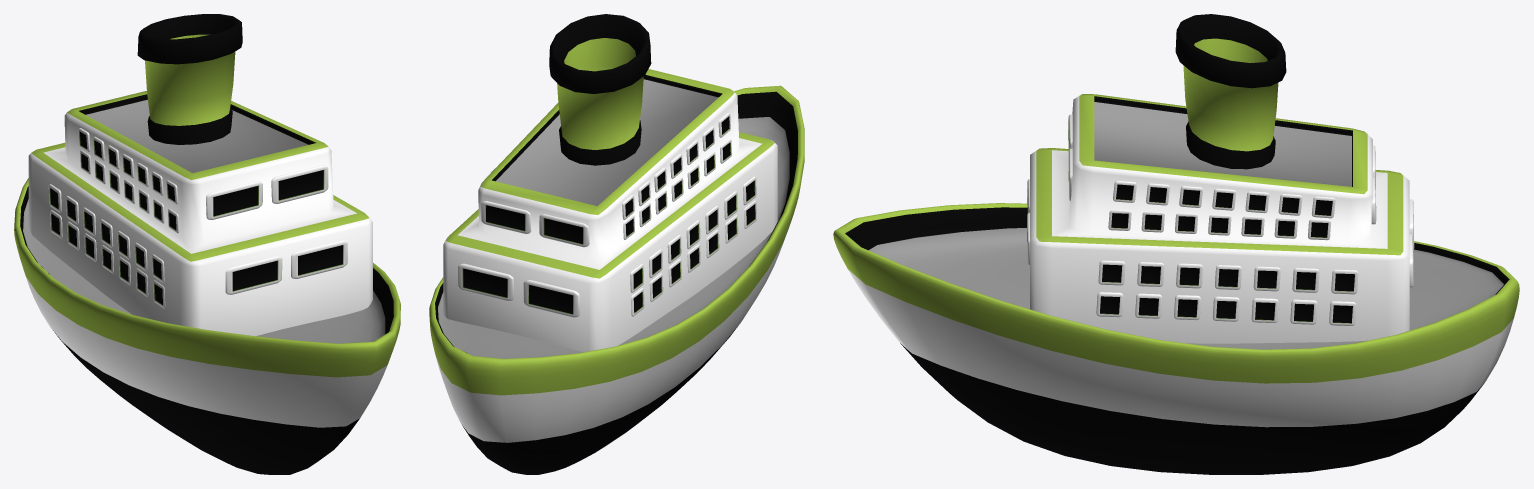
File: Navio.glb
The picture shows the model from 3 angles, left to right: view 1: azimuth 30°, elevation 25°; view 2: azimuth 150°, elevation 25°; view 3: azimuth 270°, elevation 25°; orthographic projection. The views are drawn at different scales.
Visible parts, largest first — view 1: Cube.001, Cube, Cylinder, janela1, janela1.001, janela1.002, janela1.011, janela1.010, janela1.009, janela1.008, janela1.003; view 2: Cube.001, Cube, Cylinder, janela1, janela1.001, janela1.002, janela1.003, janela1.013, janela1.012, janela1.015, janela1.014; view 3: Cube, Cube.001, Cylinder, janela1.005, janela1.004, janela1.006, janela1.007.
Part boxes in pixels (x1=…): Cube.001: x1=28, y1=91, x2=372, y2=336; Cube: x1=14, y1=178, x2=400, y2=474; Cylinder: x1=137, y1=14, x2=242, y2=144; janela1: x1=48, y1=184, x2=164, y2=282; janela1.001: x1=50, y1=210, x2=165, y2=308; janela1.002: x1=78, y1=128, x2=177, y2=204; janela1.011: x1=271, y1=165, x2=328, y2=203; janela1.010: x1=206, y1=181, x2=262, y2=219; janela1.009: x1=291, y1=240, x2=347, y2=278; janela1.008: x1=225, y1=256, x2=282, y2=294; janela1.003: x1=80, y1=150, x2=179, y2=233; Cube.001: x1=443, y1=69, x2=777, y2=352; Cube: x1=429, y1=85, x2=804, y2=474; Cylinder: x1=549, y1=14, x2=651, y2=165; janela1: x1=630, y1=176, x2=756, y2=292; janela1.001: x1=631, y1=200, x2=756, y2=316; janela1.002: x1=622, y1=113, x2=730, y2=219; janela1.003: x1=623, y1=139, x2=731, y2=239; janela1.013: x1=523, y1=280, x2=579, y2=317; janela1.012: x1=458, y1=263, x2=513, y2=301; janela1.015: x1=539, y1=214, x2=589, y2=247; janela1.014: x1=481, y1=201, x2=531, y2=233; Cube: x1=833, y1=203, x2=1519, y2=474; Cube.001: x1=1030, y1=94, x2=1409, y2=343; Cylinder: x1=1175, y1=14, x2=1286, y2=169; janela1.005: x1=1096, y1=292, x2=1356, y2=326; janela1.004: x1=1098, y1=260, x2=1358, y2=294; janela1.006: x1=1113, y1=180, x2=1335, y2=218; janela1.007: x1=1108, y1=210, x2=1330, y2=240.
Size of the model in its own units: 2.86 by 4.52 by 6.31.
3 materials, 3 textured.
